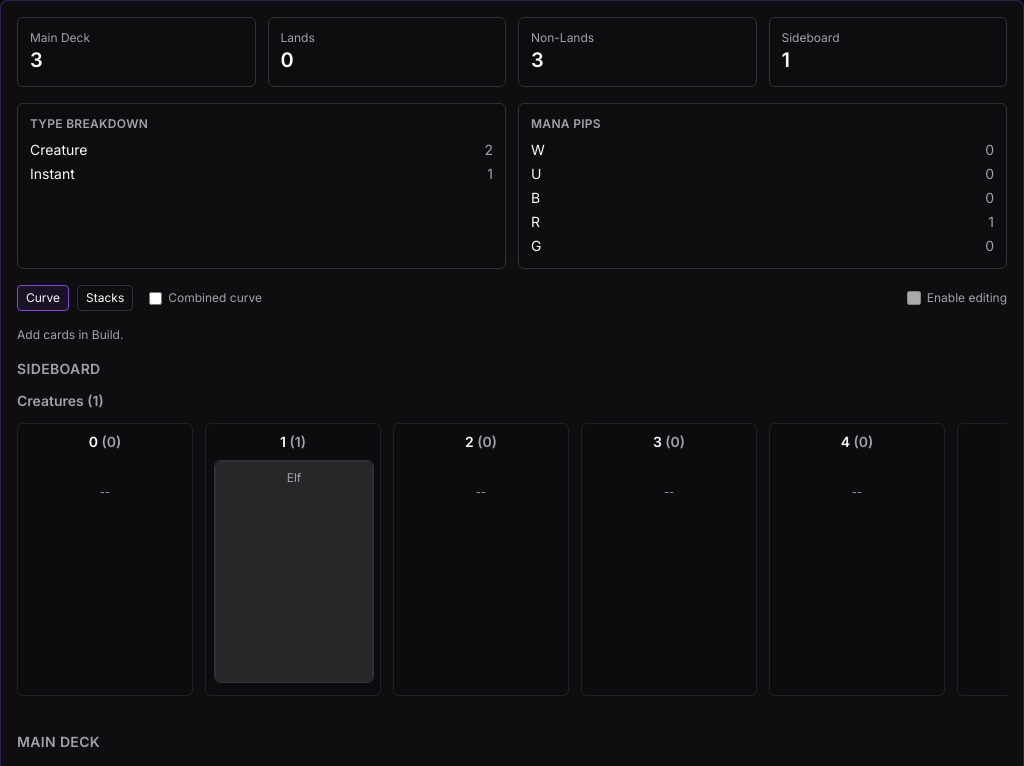
Test: DeckAnalyticsView › combines_curve_rows_when_combined_curve_is_checked
Step 1. Click the checkbox with test id "deck-analytics-combined-curve" → [156, 298], box 149,292 -> 162,304
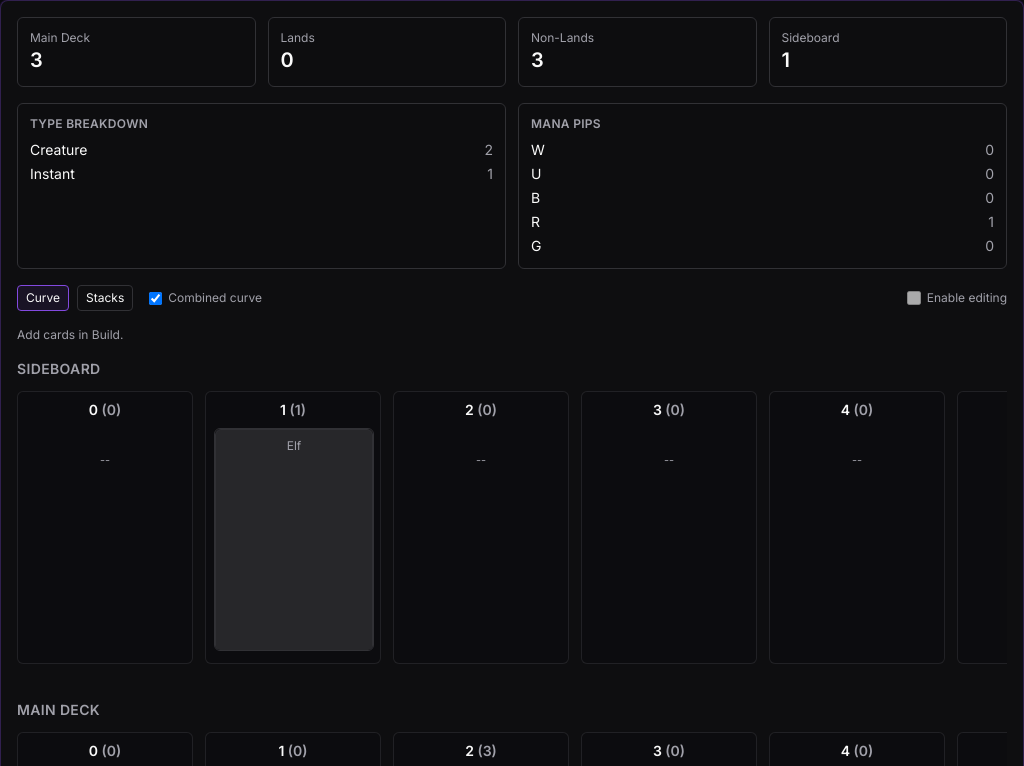
Expected: the checkbox with test id "deck-analytics-combined-curve" is checked, 149,292 -> 162,304
Expected: the heading "Creatures (" is gone
Expected: the text "(3)" is shown, 477,742 -> 497,759
